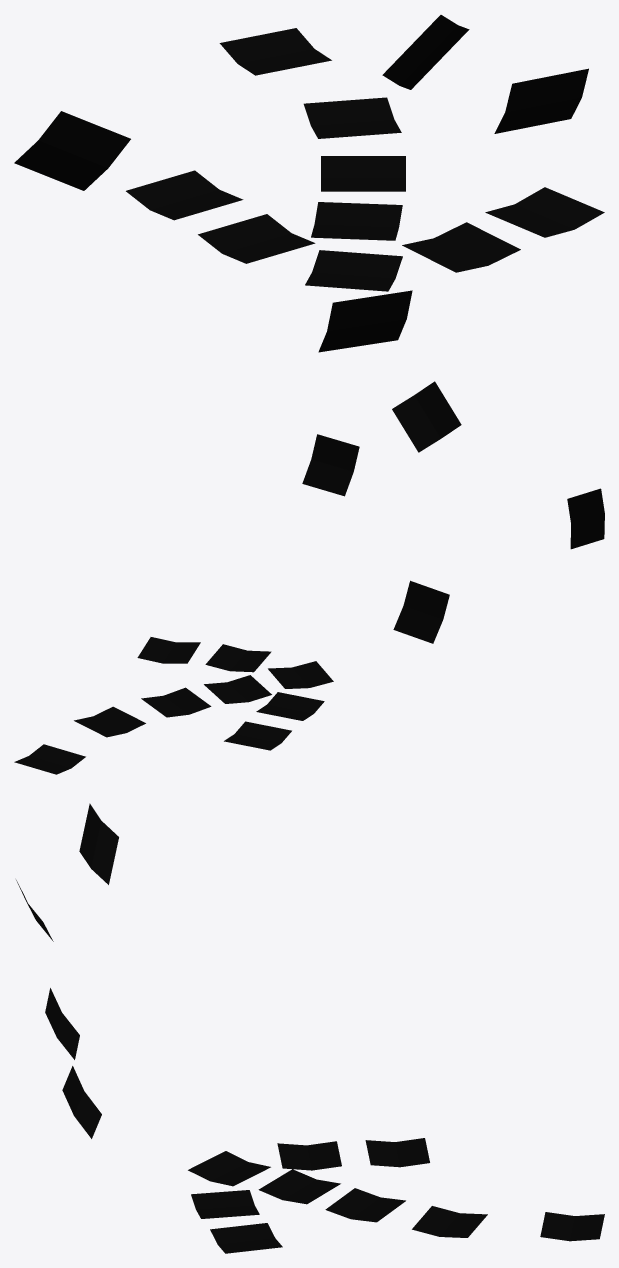
Rendered from FensterStickyNotes.fbx.
3 views of the same model, one above another, from view 1: azimuth 30°, elevation 25°; view 2: azimuth 150°, elevation 25°; view 3: azimuth 270°, elevation 25° (orthographic). The views are drawn at different scales.
Parts seen in each view (by area): view 1: StickyNotesFenster; view 2: StickyNotesFenster; view 3: StickyNotesFenster.
Boxes of the visible parts, left/top/right/bottom form: StickyNotesFenster: left=14, top=15, right=604, bottom=352; StickyNotesFenster: left=14, top=381, right=604, bottom=774; StickyNotesFenster: left=16, top=803, right=604, bottom=1253.
Size of the model in its own units: 54.36 by 30.33 by 59.36.
